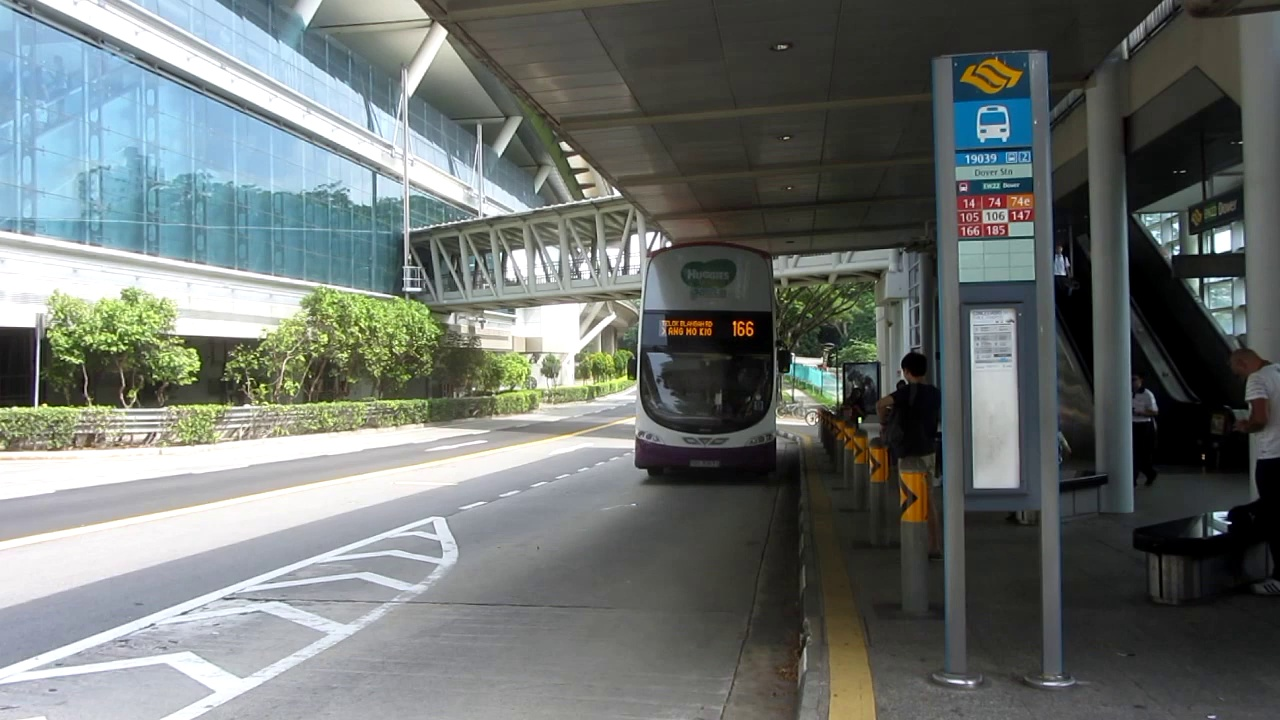bus panel: (656, 318, 757, 339)
